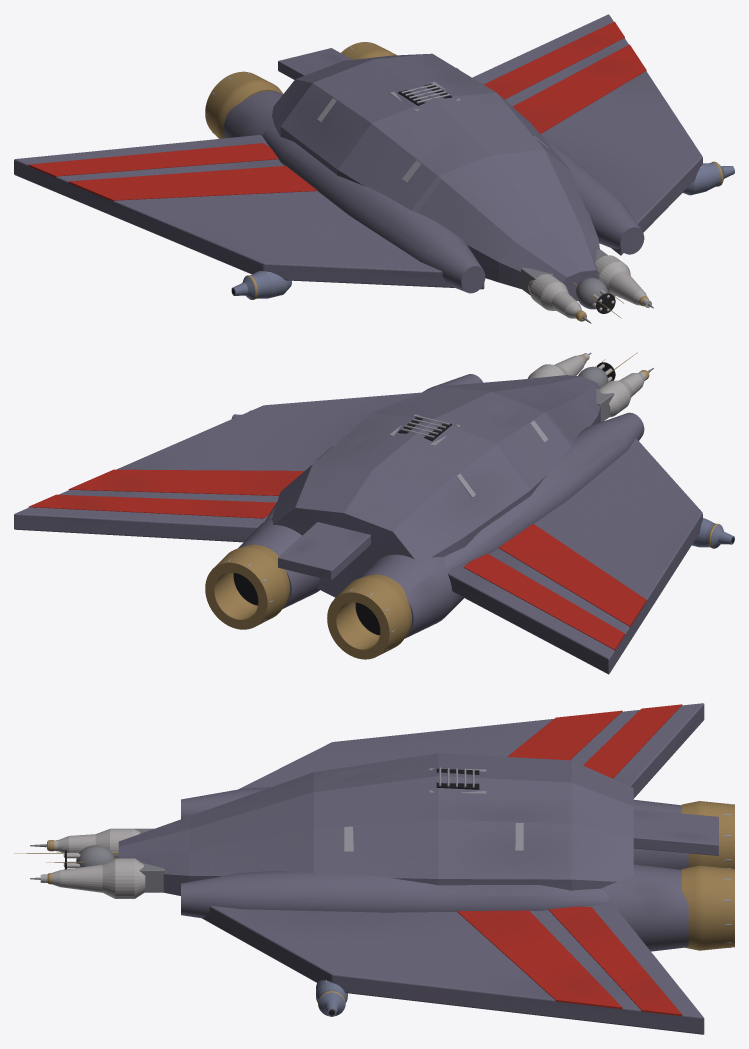
3 views of the same model, one above another, from view 1: azimuth 30°, elevation 25°; view 2: azimuth 150°, elevation 25°; view 3: azimuth 270°, elevation 25° (orthographic). The views are drawn at different scales.
Parts seen in each view (by area): view 1: Terminator continuous faceted hull, Terminator swept outer wing -1, Terminator swept outer wing 1, Terminator inner wing fairing -1, Terminator red wing band -1 0, Terminator red wing band 1 0, Terminator red wing band -1 1, Terminator inner wing fairing 1, Terminator red wing band 1 1, Terminator exhaust -1, Terminator aft engine housing -1, Anterior sensor or communications housing 1 (+6 smaller); view 2: Terminator continuous faceted hull, Terminator swept outer wing -1, Terminator swept outer wing 1, Terminator inner wing fairing -1, Terminator red wing band -1 0, Terminator exhaust -1, Terminator exhaust 1, Terminator red wing band 1 0, Terminator aft engine housing -1, Terminator red wing band -1 1, Terminator red wing band 1 1, Terminator aft dorsal tab (+4 smaller); view 3: Terminator continuous faceted hull, Terminator swept outer wing 1, Terminator inner wing fairing 1, Terminator swept outer wing -1, Terminator red wing band 1 0, Terminator aft engine housing 1, Terminator red wing band 1 1, Terminator exhaust 1, Terminator aft dorsal tab, Terminator red wing band -1 0, Anterior sensor or communications housing 1, Terminator red wing band -1 1 (+7 smaller).
Part boxes in pixels (<box>): Terminator continuous faceted hull: <box>271,53,599,300</box>; Terminator swept outer wing -1: <box>14,135,484,289</box>; Terminator swept outer wing 1: <box>472,14,702,255</box>; Terminator inner wing fairing -1: <box>262,127,485,293</box>; Terminator red wing band -1 0: <box>68,166,317,201</box>; Terminator red wing band 1 0: <box>512,44,646,133</box>; Terminator red wing band -1 1: <box>28,143,278,177</box>; Terminator inner wing fairing 1: <box>541,135,644,254</box>; Terminator red wing band 1 1: <box>483,21,624,99</box>; Terminator exhaust -1: <box>205,71,282,138</box>; Terminator aft engine housing -1: <box>223,91,282,138</box>; Anterior sensor or communications housing 1: <box>595,255,651,307</box>; Terminator continuous faceted hull: <box>271,375,600,597</box>; Terminator swept outer wing -1: <box>448,438,702,674</box>; Terminator swept outer wing 1: <box>14,392,420,542</box>; Terminator inner wing fairing -1: <box>443,412,644,570</box>; Terminator red wing band -1 0: <box>498,523,646,627</box>; Terminator exhaust -1: <box>327,574,411,659</box>; Terminator exhaust 1: <box>205,544,289,629</box>; Terminator red wing band 1 0: <box>68,469,304,495</box>; Terminator aft engine housing -1: <box>360,554,463,638</box>; Terminator red wing band -1 1: <box>463,553,624,650</box>; Terminator red wing band 1 1: <box>28,494,276,518</box>; Terminator aft dorsal tab: <box>278,522,370,580</box>; Terminator continuous faceted hull: <box>118,753,633,895</box>; Terminator swept outer wing 1: <box>201,904,704,1034</box>; Terminator inner wing fairing 1: <box>181,871,608,917</box>; Terminator swept outer wing -1: <box>238,703,704,798</box>; Terminator red wing band 1 0: <box>457,910,622,1009</box>; Terminator aft engine housing 1: <box>601,864,688,951</box>; Terminator red wing band 1 1: <box>548,906,682,1016</box>; Terminator exhaust 1: <box>681,865,734,950</box>; Terminator aft dorsal tab: <box>633,809,718,855</box>; Terminator red wing band -1 0: <box>507,710,622,760</box>; Anterior sensor or communications housing 1: <box>40,858,145,898</box>; Terminator red wing band -1 1: <box>583,704,682,778</box>.
Size of the model in its own units: 4.2 by 0.8857 by 4.06.
10 materials, 2 textured.
